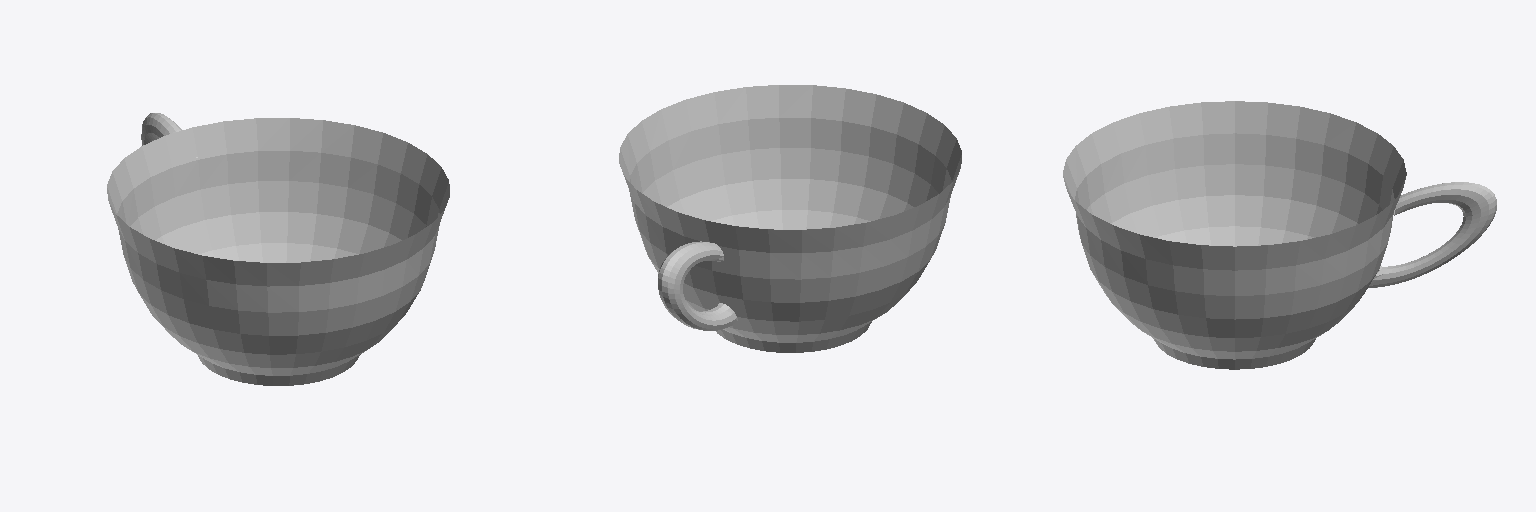
3 renders of one model, left to right at view 1: azimuth 30°, elevation 25°; view 2: azimuth 150°, elevation 25°; view 3: azimuth 270°, elevation 25°, orthographic.
Parts seen in each view (by area): view 1: 球体, Torus.001; view 2: 球体, Torus.001; view 3: 球体, Torus.001.
Part boxes in pixels (x1,y1,x2,y2): 球体: (107, 118, 449, 385); Torus.001: (141, 113, 197, 157); 球体: (619, 85, 961, 352); Torus.001: (658, 241, 737, 330); 球体: (1063, 101, 1406, 369); Torus.001: (1368, 182, 1496, 287).
Size of the model in its own units: 2.16 by 1.14 by 2.73.